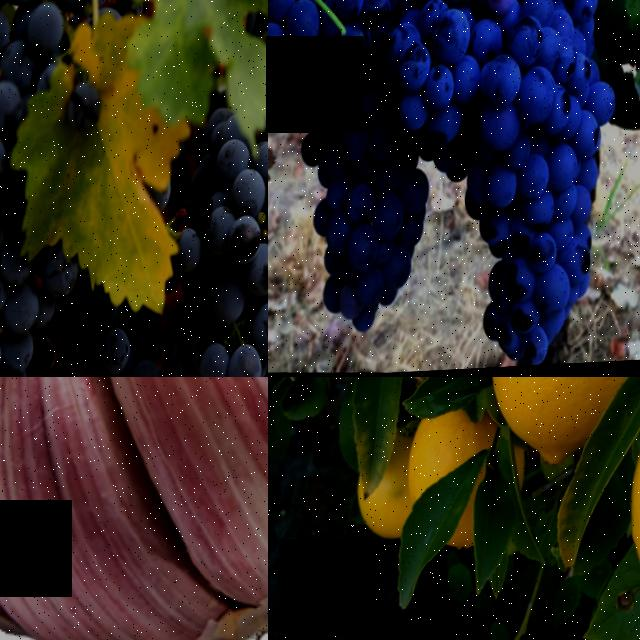garlic: (0, 377, 268, 640)
grapes: (454, 0, 634, 373), (296, 118, 441, 339), (162, 114, 268, 377), (367, 0, 502, 154), (268, 0, 387, 119), (0, 260, 89, 377)
lemon: (485, 377, 626, 438)
